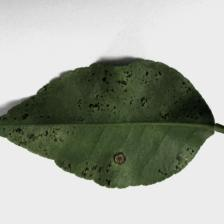canker: (82, 73, 151, 115)
